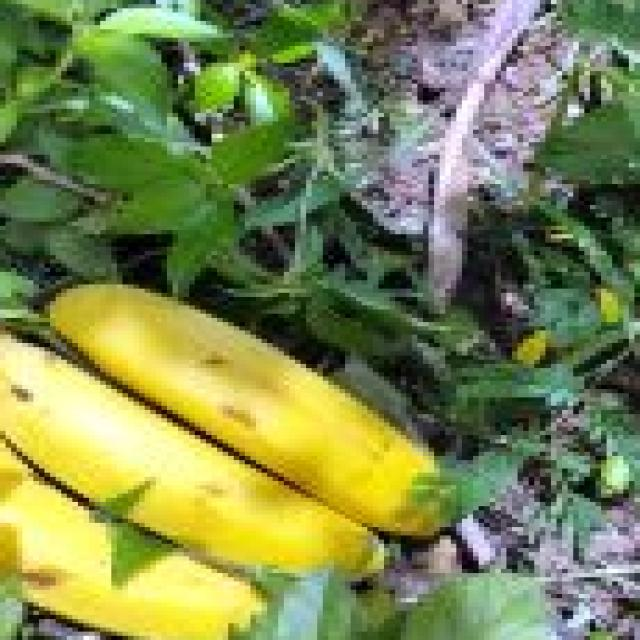Good_Banana-2-3 days: (0, 287, 454, 640)
